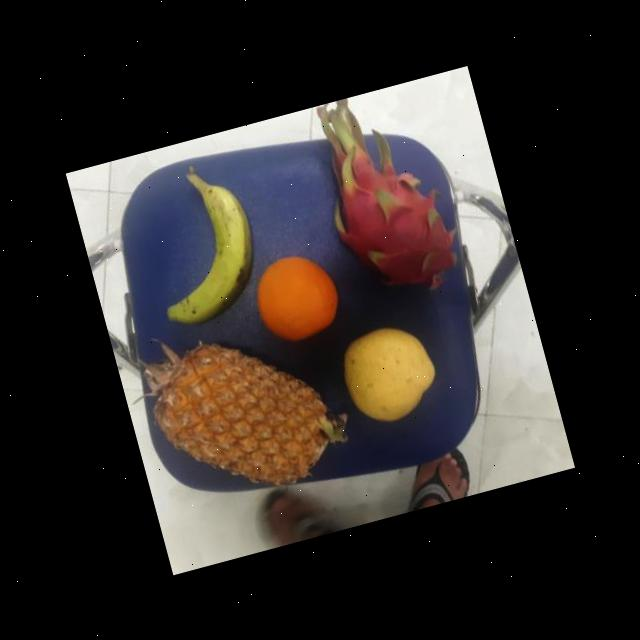banana: (134, 167, 270, 331)
orange: (245, 245, 347, 348)
pear: (330, 314, 446, 430)
pineapple: (130, 312, 347, 516)
pitaya: (309, 122, 472, 310)
